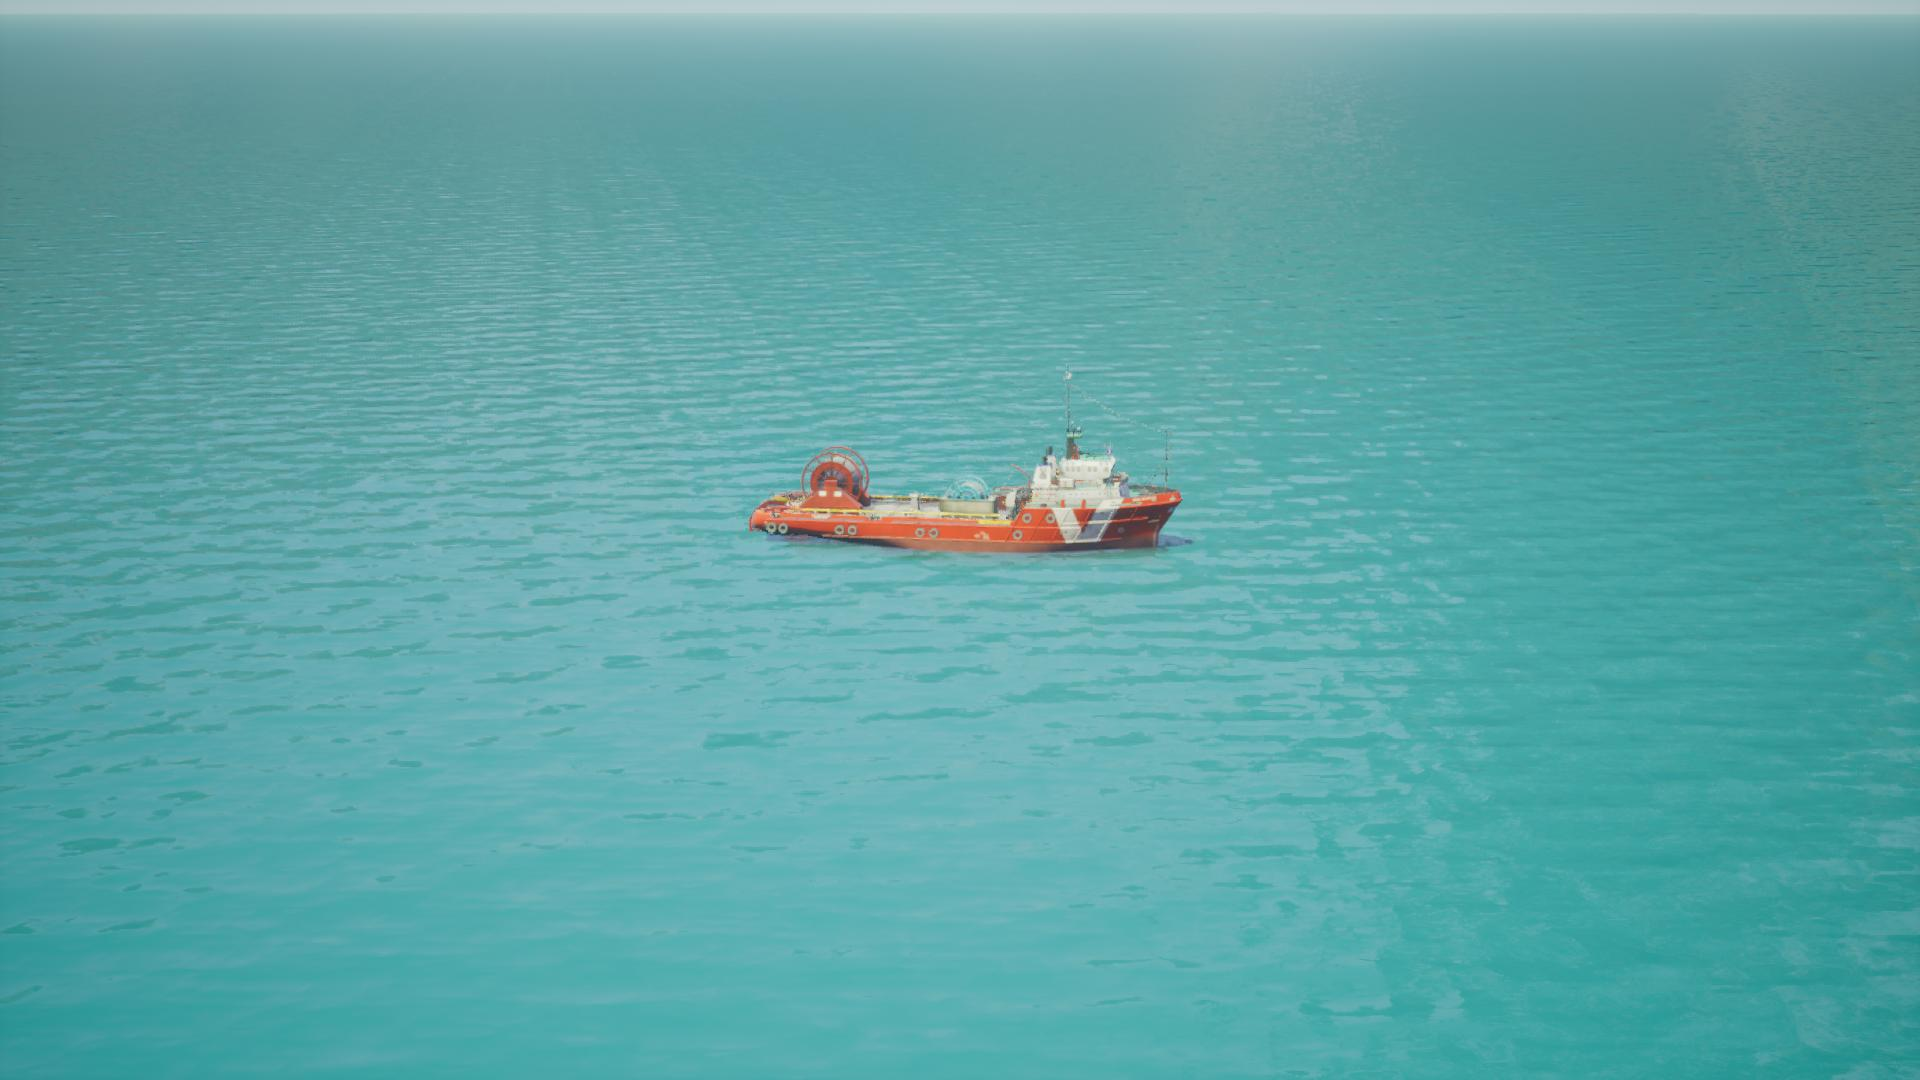Tug Boat: (750, 371, 1191, 560)
